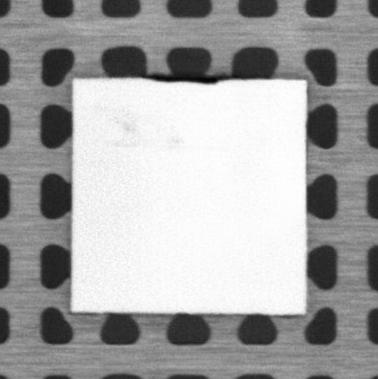DIE_BROKEN: (145, 72, 228, 85)
